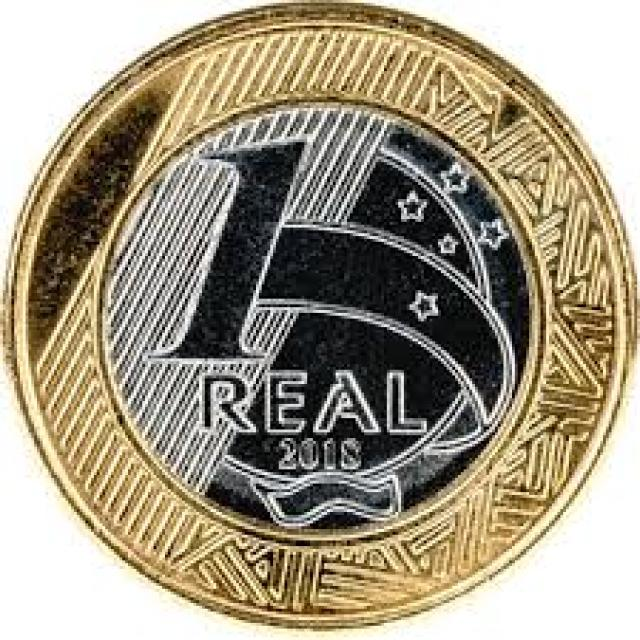1 real: (16, 2, 626, 620)
